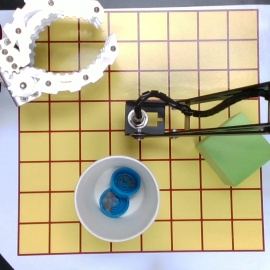cup_blue: (74, 155, 160, 243)
